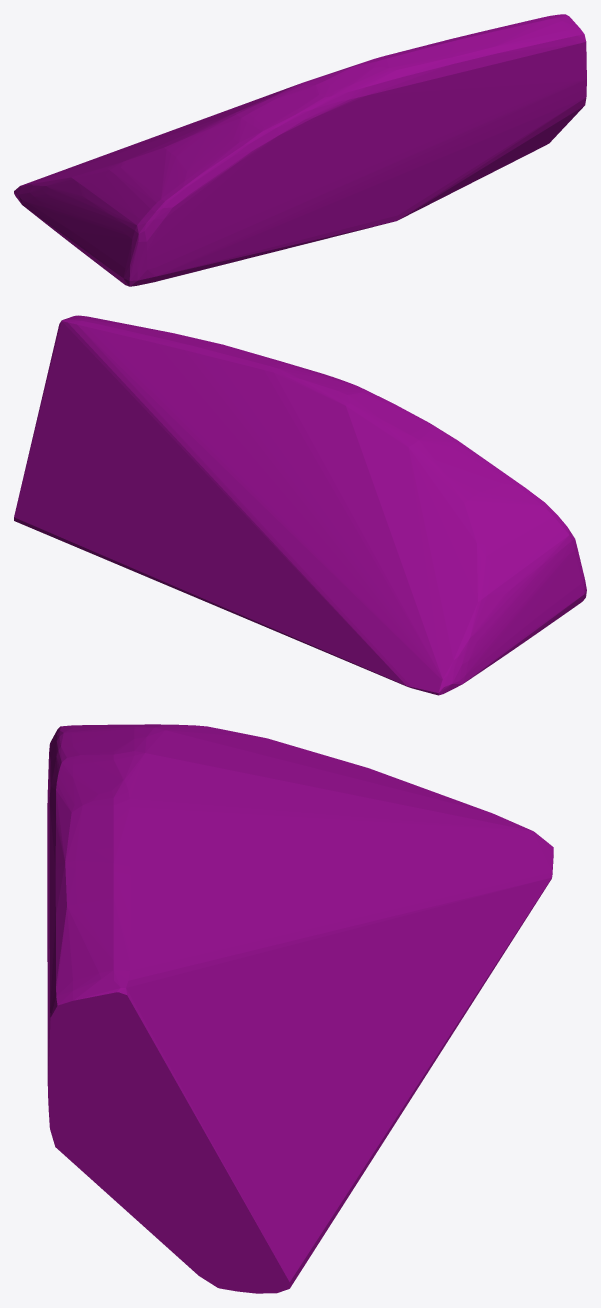
3 views of the same model, one above another, from view 1: azimuth 30°, elevation 25°; view 2: azimuth 150°, elevation 25°; view 3: azimuth 270°, elevation 25° (orthographic). The views are drawn at different scales.
Bounding box in the file's own units: 0.1559 × 0.051 × 0.0748.
